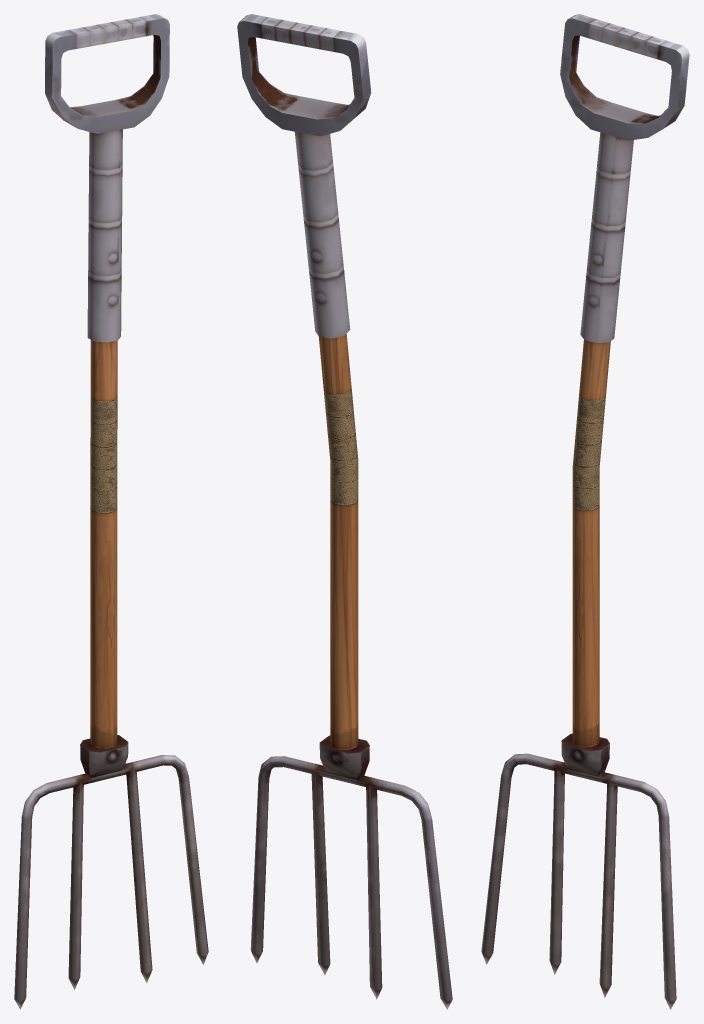
Rendered from Tools01_2.FBX.
The picture shows the model from 3 angles, left to right: view 1: azimuth 30°, elevation 25°; view 2: azimuth 150°, elevation 25°; view 3: azimuth 330°, elevation 25°; orthographic projection. The views are drawn at different scales.
Visible parts, largest first — view 1: Tools01_2; view 2: Tools01_2; view 3: Tools01_2.
Part boxes in pixels (x1=…): Tools01_2: x1=14, y1=14, x2=208, y2=1009; Tools01_2: x1=237, y1=14, x2=452, y2=1009; Tools01_2: x1=481, y1=14, x2=689, y2=1009.
Size of what is drawn, in the model's own units: 0.299 by 1.38 by 0.1033.
